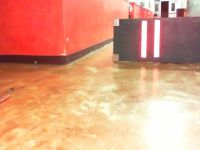switch: (153, 19, 161, 58), (140, 20, 148, 58)
